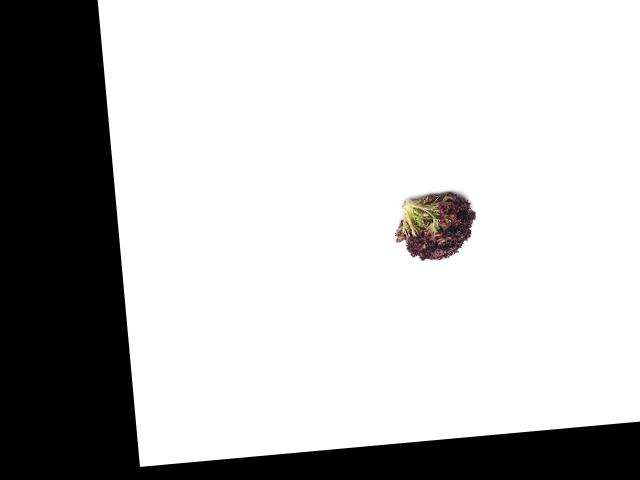lettuce: (395, 184, 483, 265)
